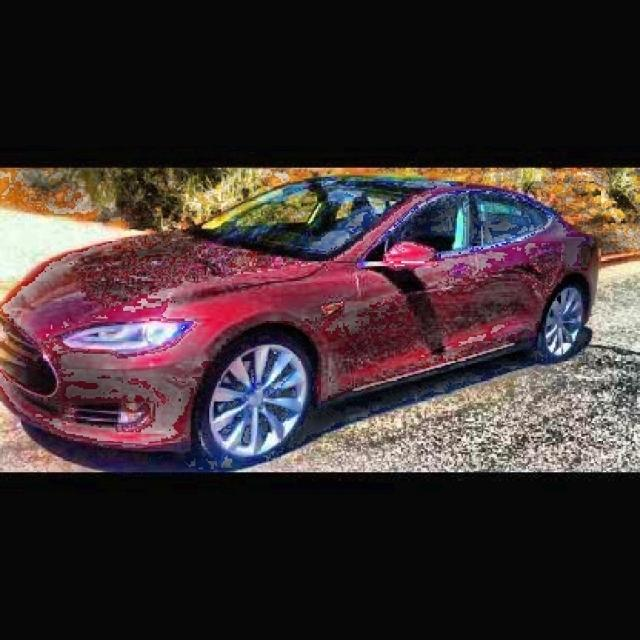maroon: (1, 176, 602, 415)
